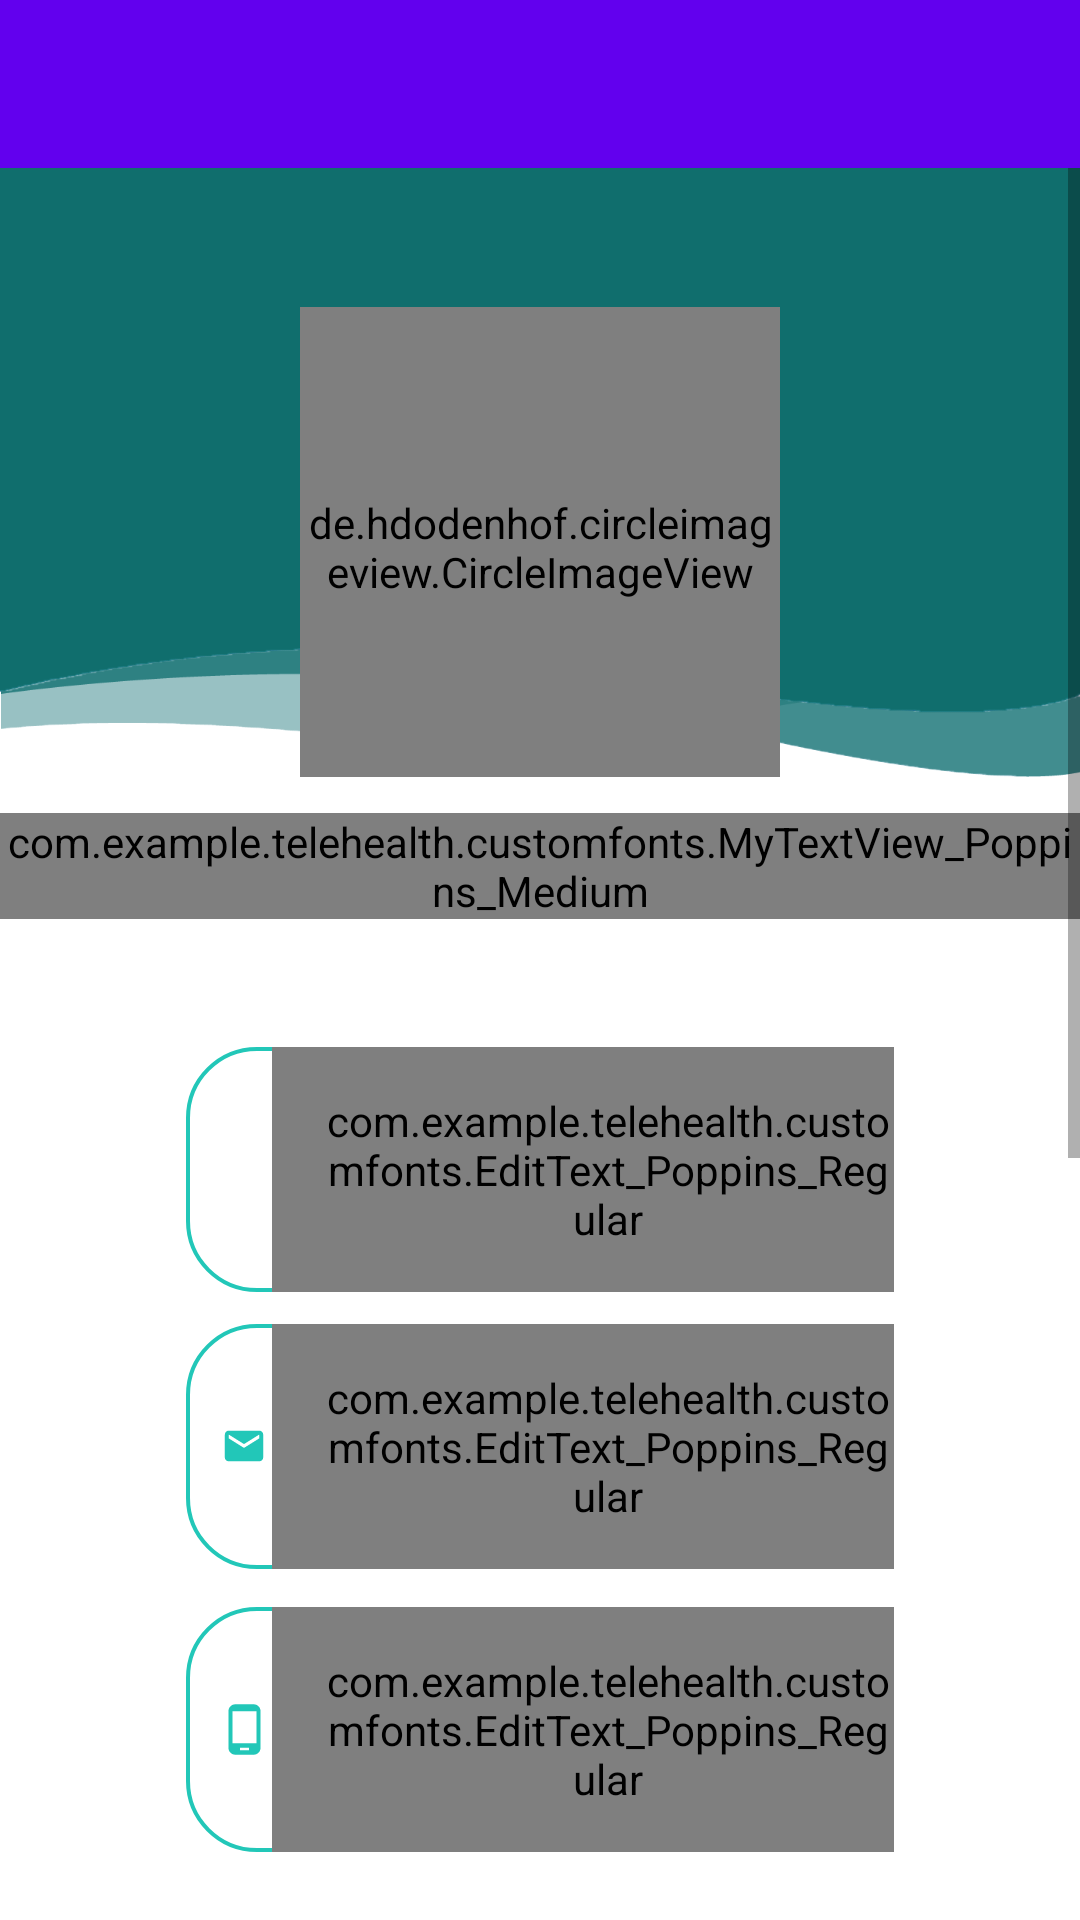

Icons on this 1080px×1920px Android screen, each with its box as [x1, y1, x2, y2]:
phone: [228, 1704, 261, 1755]
